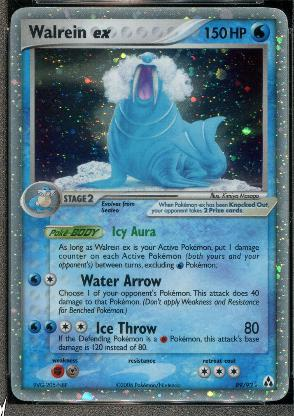Card: (9, 6, 287, 402)
